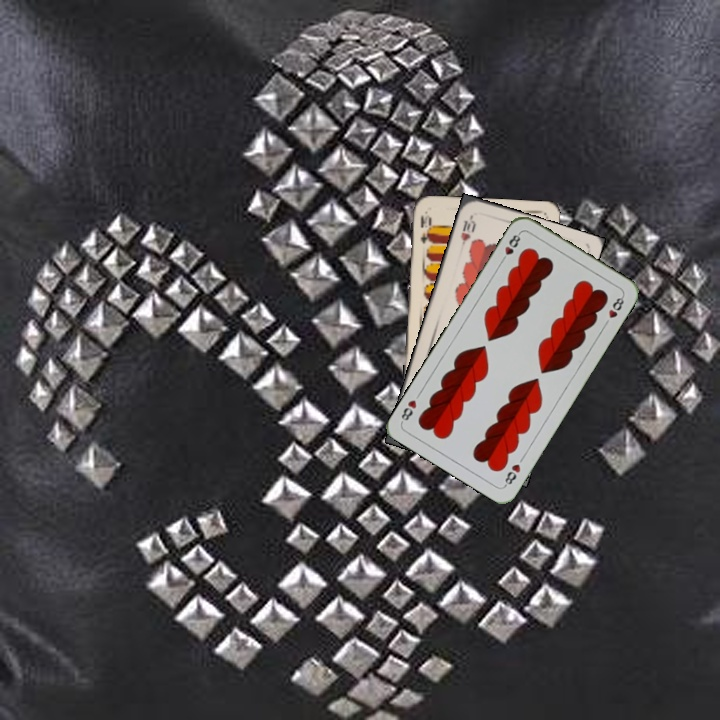E10: (416, 211, 434, 246)
H10: (456, 212, 478, 252)
H8: (497, 229, 523, 265), (500, 460, 523, 489)
